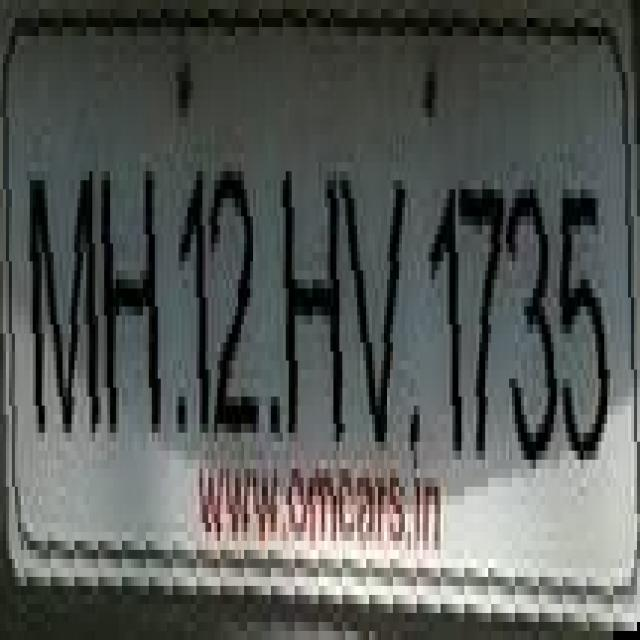license_plate: (18, 18, 640, 559)
